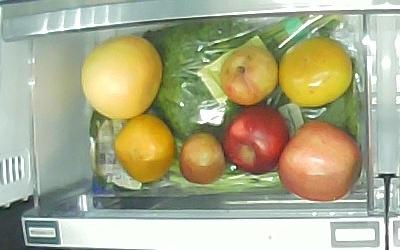apple: (278, 121, 362, 202), (222, 104, 290, 175)
grapefruit: (81, 35, 164, 119)
persimmon: (279, 37, 353, 107), (114, 115, 176, 183)
prune: (220, 47, 279, 106), (180, 133, 225, 184)
